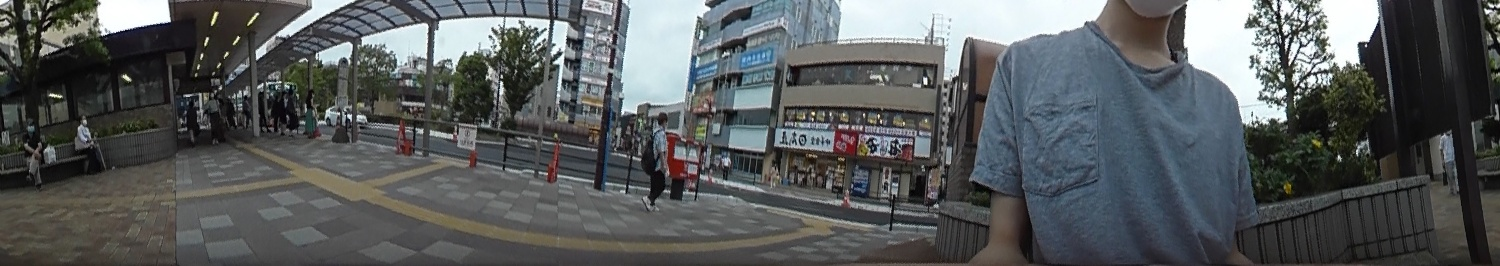difficult_person: (205, 90, 220, 144), (302, 86, 317, 136), (185, 101, 199, 146), (286, 82, 298, 133), (276, 88, 286, 130), (258, 91, 268, 129), (242, 95, 250, 129)
person: (645, 111, 673, 207), (71, 113, 105, 173), (19, 119, 48, 188), (1439, 128, 1462, 193)
